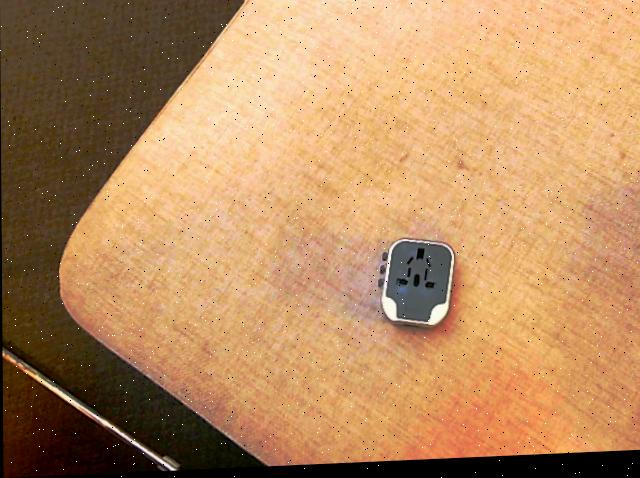adapter: (376, 240, 454, 333)
